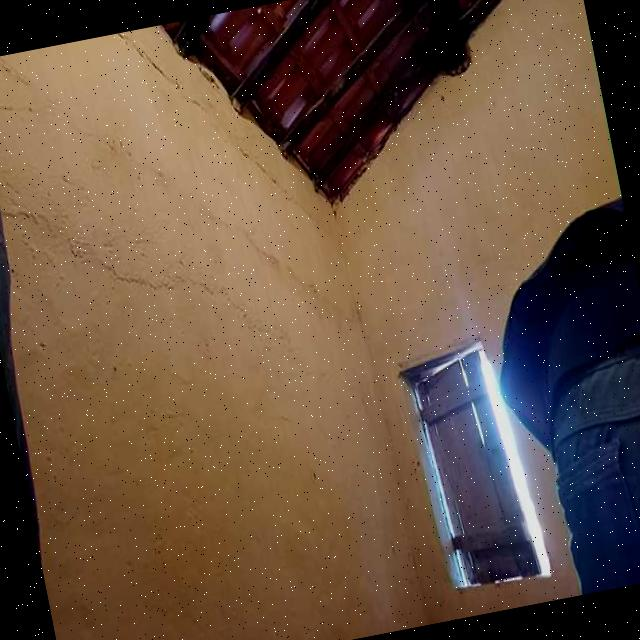colete: (502, 207, 638, 306)
pessoa: (519, 262, 640, 595)
